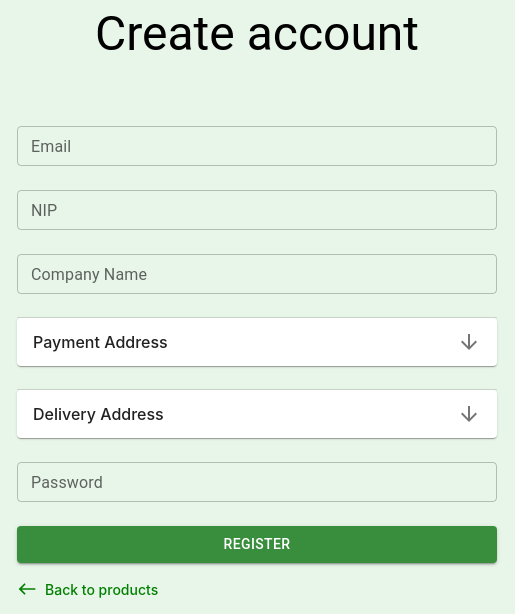
Test: RegisterForm › shows an error message when required fields are empty
# Simulate clicking the register button without filling the form
Step 1. Click the button "Register" → x=257, y=544, box [17,526,497,562]
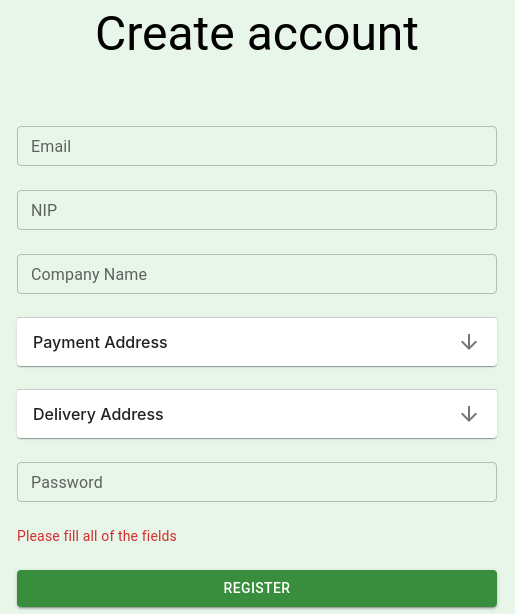
expect the text "Please fill all of the fields" is shown: met, box [17,528,177,544]
